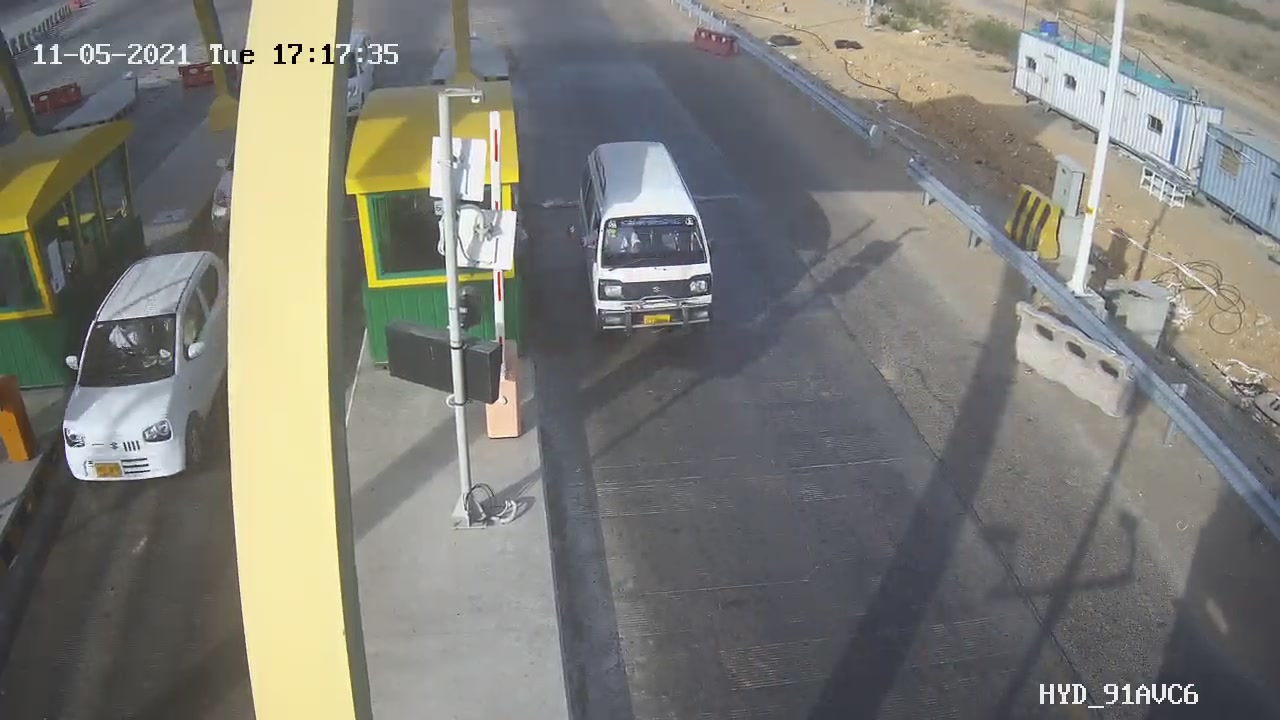F1: (555, 127, 740, 357)
